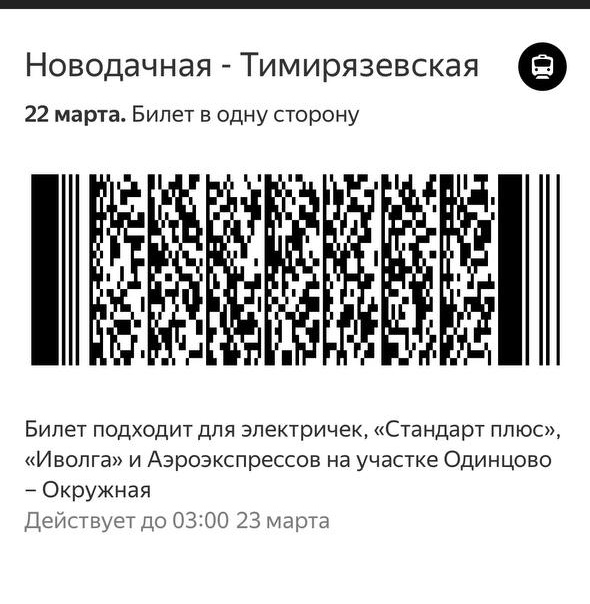2d: (28, 172, 562, 366)
